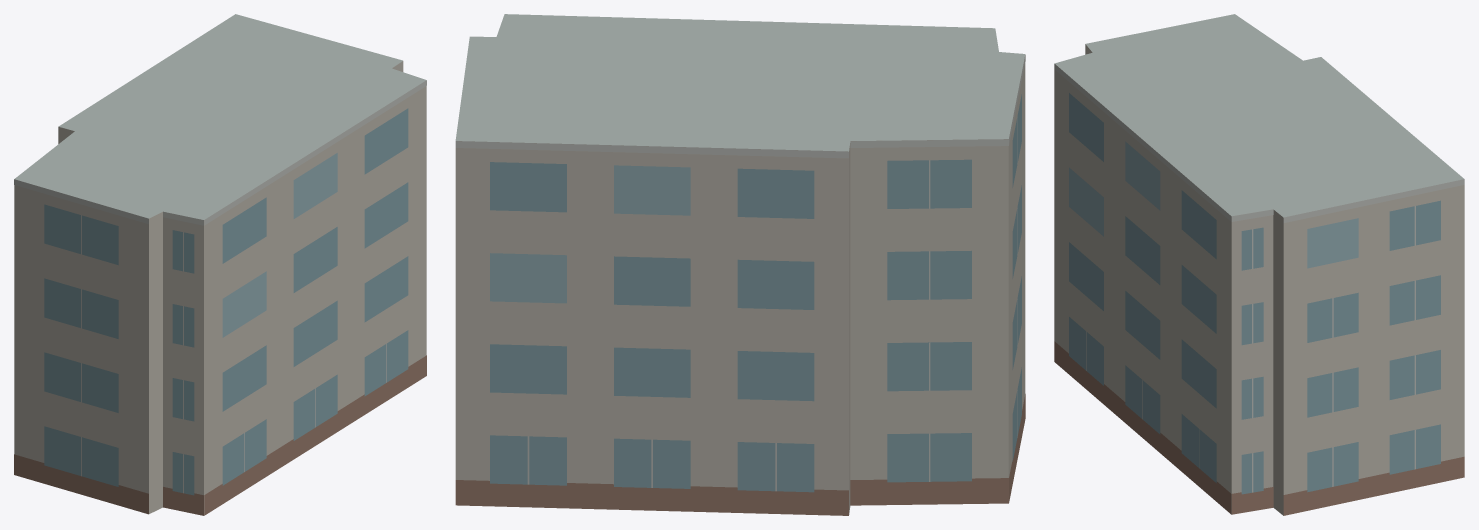
File: survey-upis-32629492.glb
3 views of the same model, side by side, from view 1: azimuth 30°, elevation 25°; view 2: azimuth 150°, elevation 25°; view 3: azimuth 270°, elevation 25° (orthographic). The views are drawn at different scales.
Parts seen in each view (by area): view 1: survey-upis-32629492.tmp; view 2: survey-upis-32629492.tmp; view 3: survey-upis-32629492.tmp.
Boxes of the visible parts, <box> form: survey-upis-32629492.tmp: <box>14,14,426,515</box>; survey-upis-32629492.tmp: <box>455,14,1025,515</box>; survey-upis-32629492.tmp: <box>1054,14,1464,515</box>.
Size of the model in its own units: 18.59 by 12.7 by 15.83.
